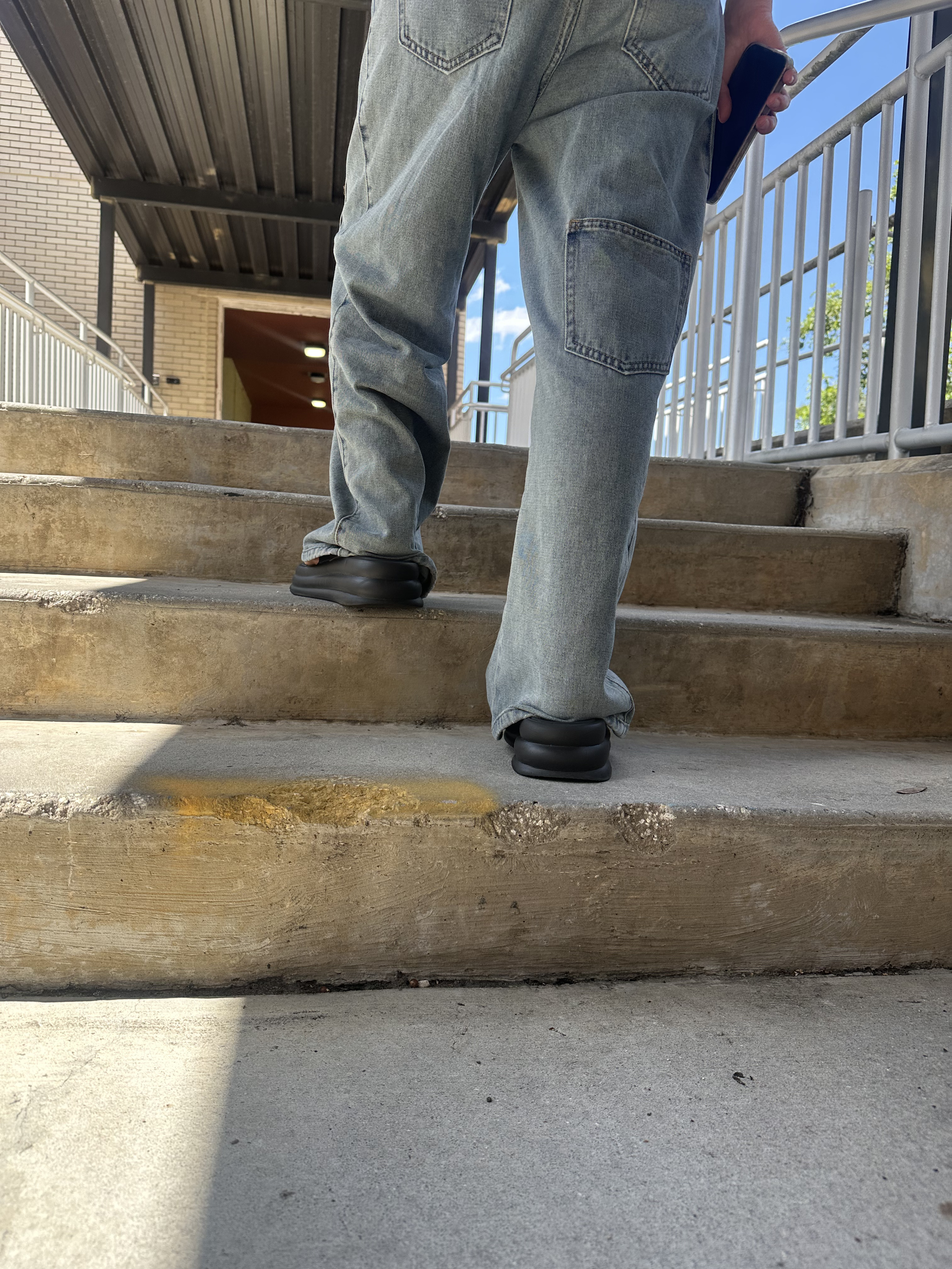stairs: (2, 406, 952, 994)
